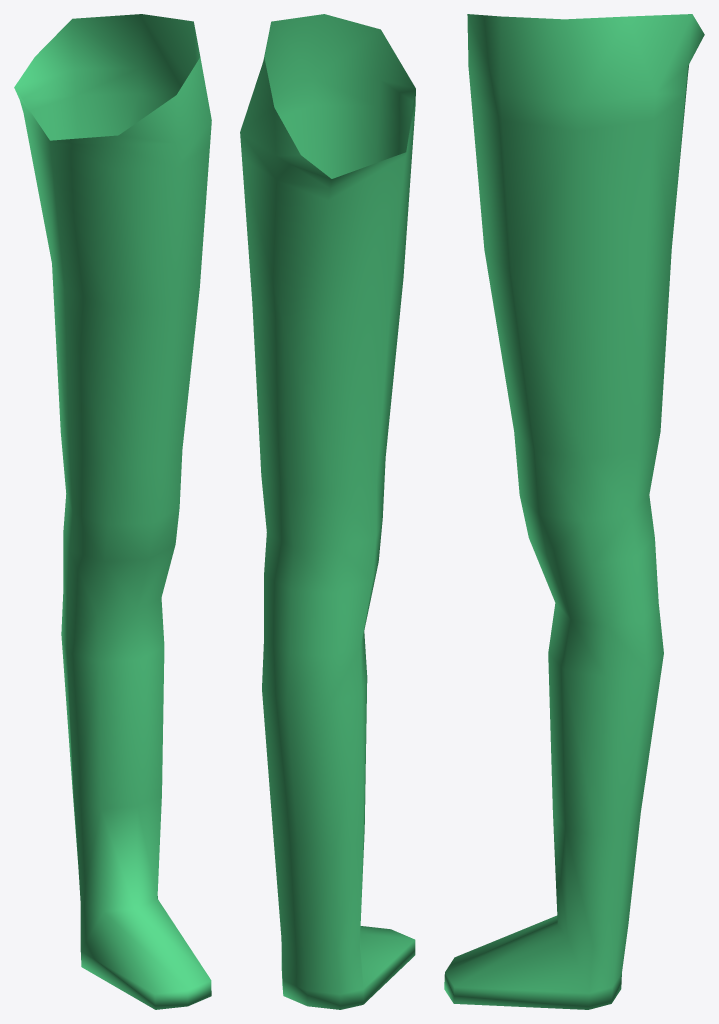
File: NM_zombie_leftleg.obj
3 renders of one model, left to right at view 1: azimuth 30°, elevation 25°; view 2: azimuth 150°, elevation 25°; view 3: azimuth 270°, elevation 25°, orthographic. The views are drawn at different scales.
Parts seen in each view (by area): view 1: Cylinder001; view 2: Cylinder001; view 3: Cylinder001.
Part boxes in pixels (left/top/right/bottom): Cylinder001: left=14, top=14, right=211, bottom=1009; Cylinder001: left=240, top=14, right=415, bottom=1009; Cylinder001: left=444, top=14, right=704, bottom=1009.
Bounding box in the file's own units: 6.38 × 38.55 × 9.09.
